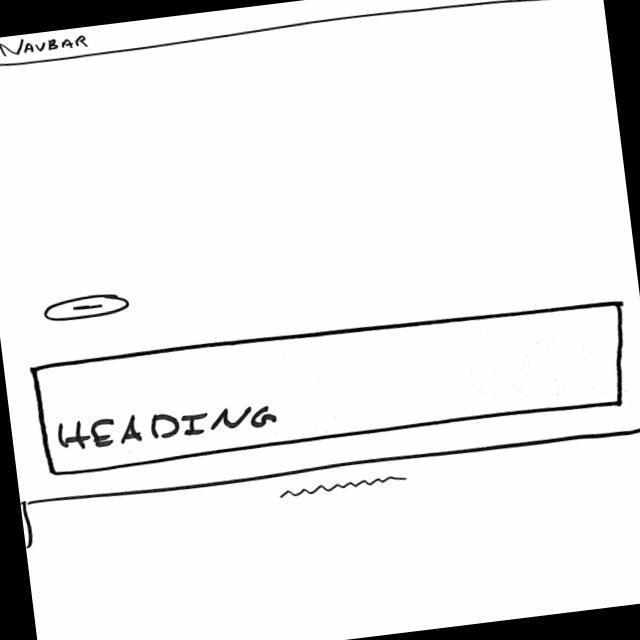container: (33, 294, 634, 479), (1, 1, 603, 72)
icon-button: (42, 291, 133, 325)
label: (53, 397, 281, 455), (1, 32, 90, 61)
text: (278, 475, 412, 501)
